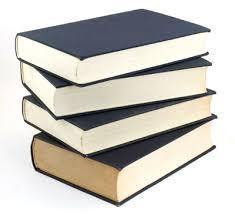Paper: (11, 7, 235, 212)
